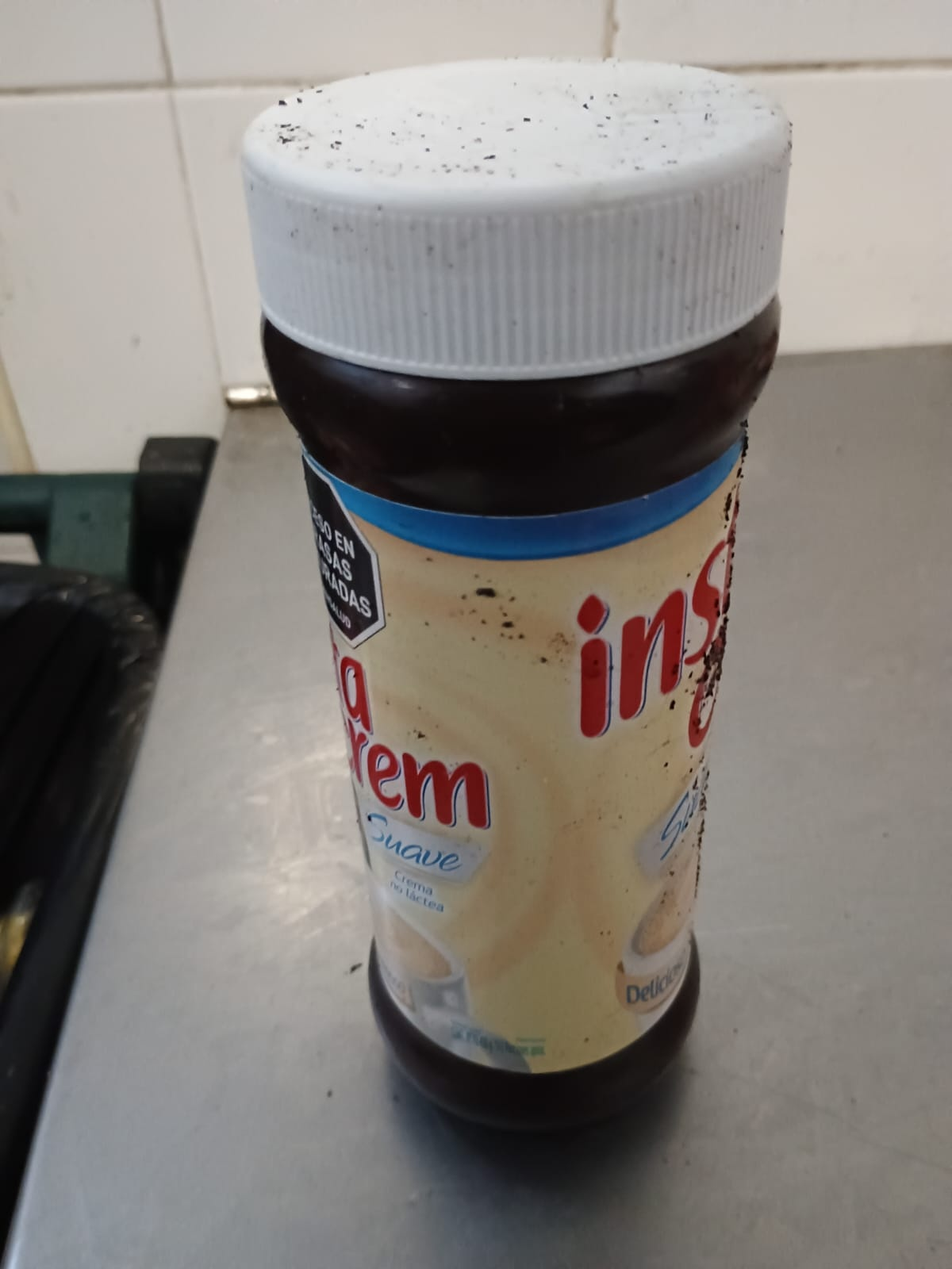Plastico: (241, 58, 790, 1133)
